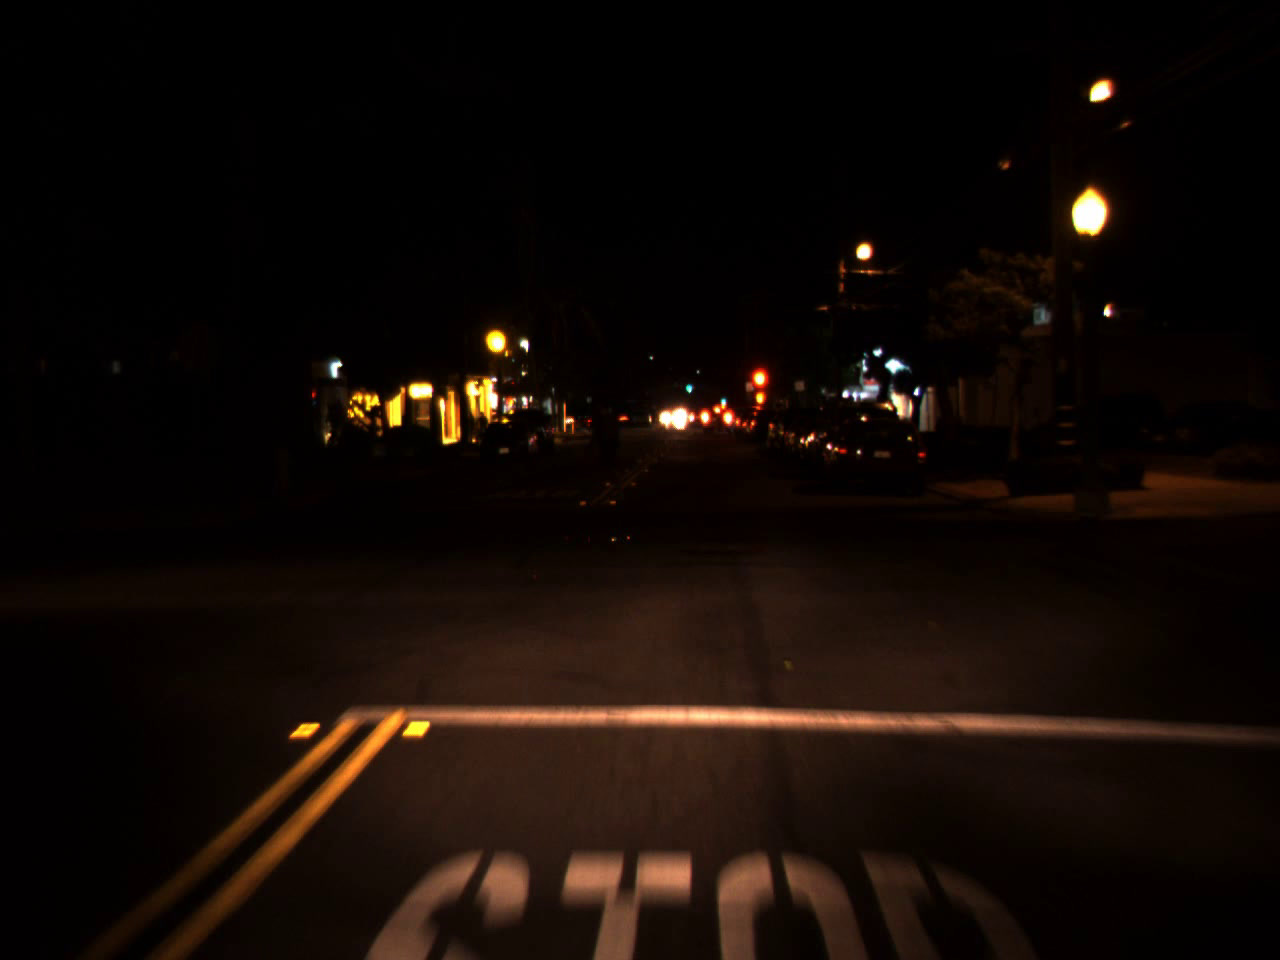go: (683, 377, 693, 395), (718, 391, 727, 406)
stop: (748, 364, 772, 415)
